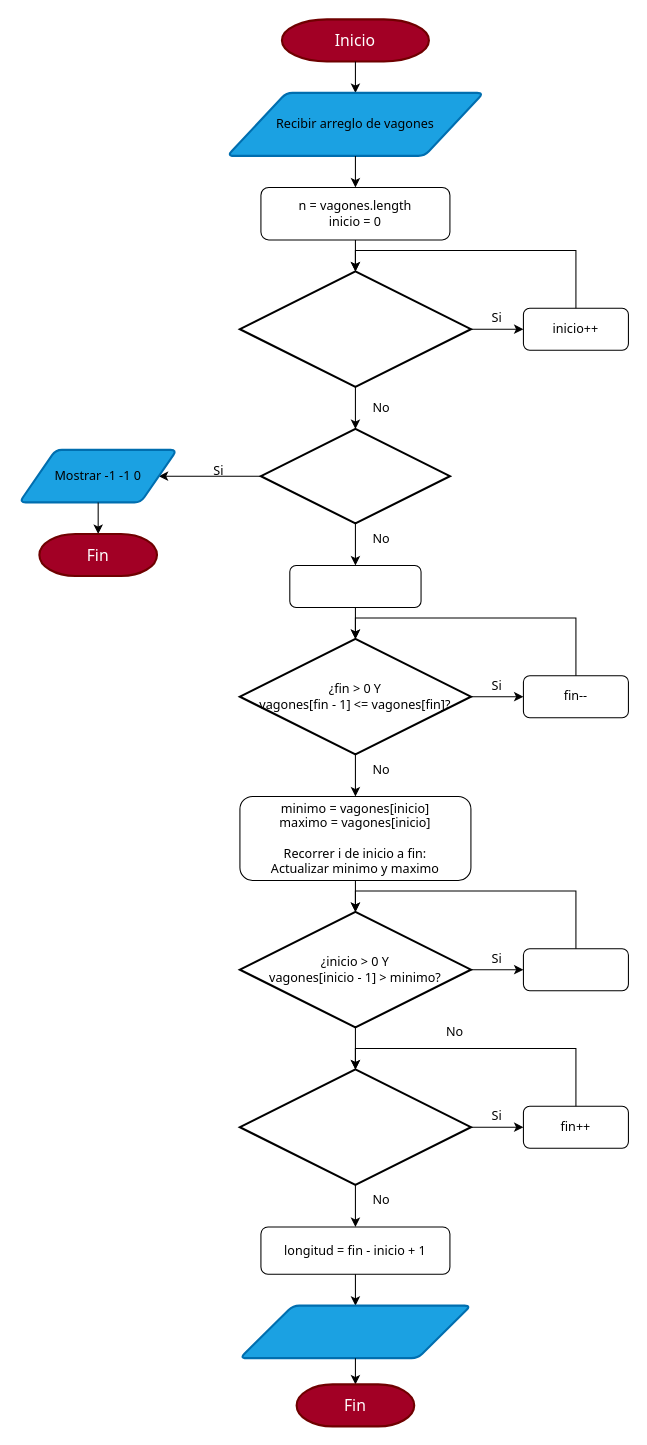
Image size: 647x1445. Some labels were removed from this diagram. The shapes that lost their labels are listed below. From the top down, each one's centre as x and y in pixels, then its label:
At point (354, 328): "¿inicio < n - 1 Y vagones[inicio] <= vagones[inicio + 1]?".
At point (354, 475): "¿inicio == n - 1?".
At point (355, 585): "fin = n - 1".
At point (575, 969): "inicio--".
At point (354, 1126): "¿fin < n - 1 Y vagones[fin + 1] < maximo?".
At point (354, 1331): "Mostrar inicio, fin, longitud".
